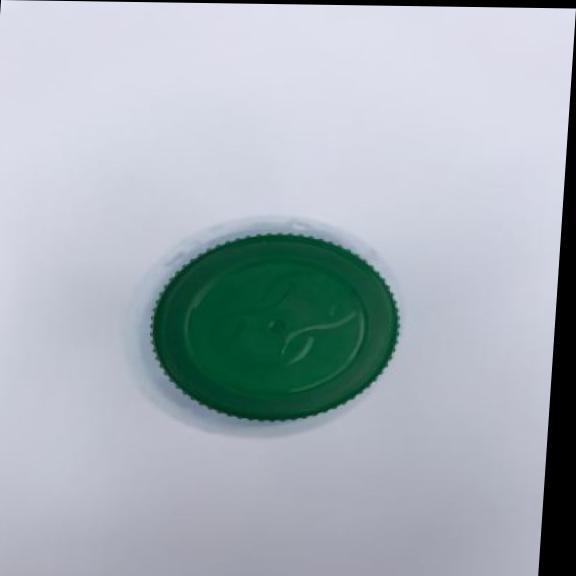Plastik: (138, 228, 413, 432)
